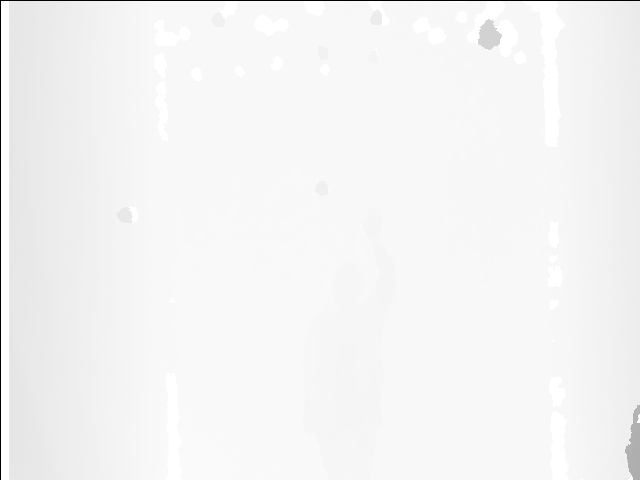hand: (363, 205, 389, 244)
